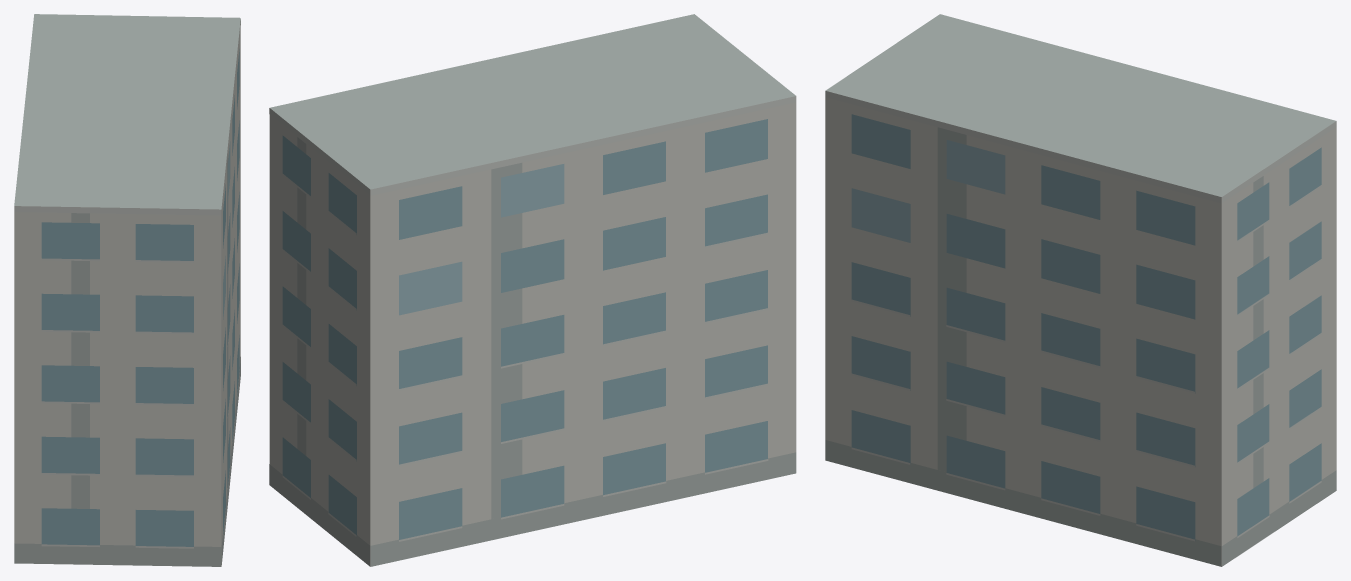
Rendered from survey-upis-32946376.glb.
3 renders of one model, left to right at view 1: azimuth 30°, elevation 25°; view 2: azimuth 150°, elevation 25°; view 3: azimuth 270°, elevation 25°, orthographic. The views are drawn at different scales.
Parts seen in each view (by area): view 1: survey-upis-32946376.tmp; view 2: survey-upis-32946376.tmp; view 3: survey-upis-32946376.tmp.
Part boxes in pixels (x1,y1,x2,y2): survey-upis-32946376.tmp: [14, 14, 240, 566]; survey-upis-32946376.tmp: [269, 14, 796, 566]; survey-upis-32946376.tmp: [825, 14, 1336, 566].
Size of the model in its own units: 15.2 by 14.3 by 17.93.
